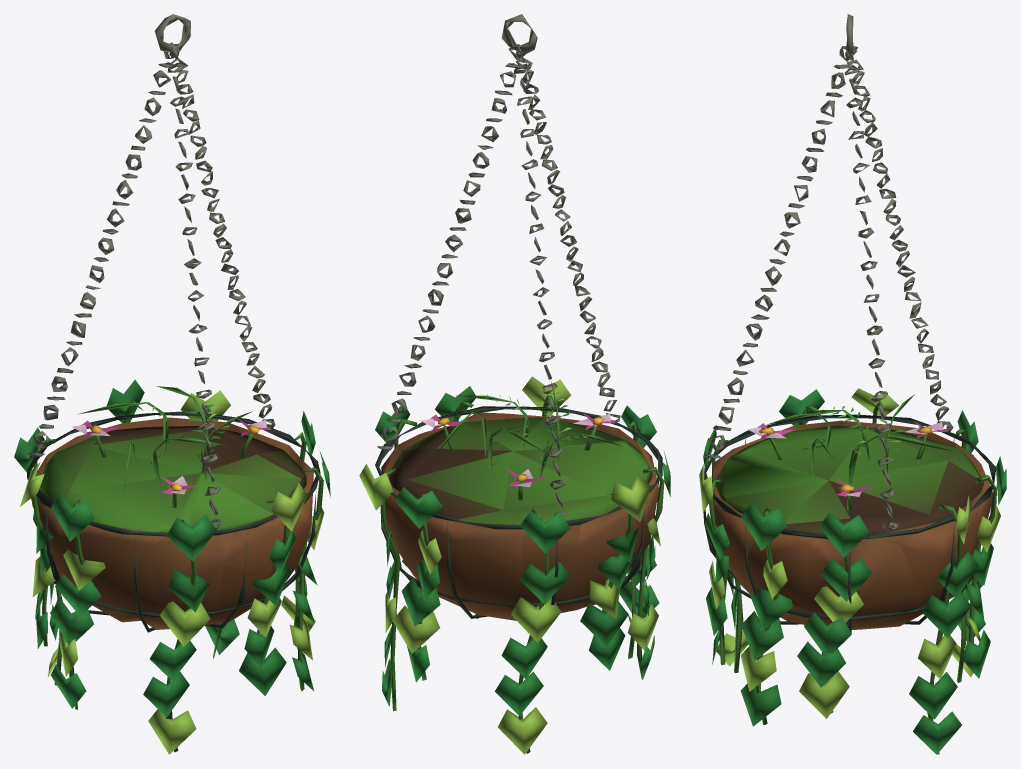
File: canopy_hanging_basket_lod2.glb
3 renders of one model, left to right at view 1: azimuth 30°, elevation 25°; view 2: azimuth 150°, elevation 25°; view 3: azimuth 270°, elevation 25°, orthographic.
Parts seen in each view (by area): view 1: canopy_hanging_basket.001; view 2: canopy_hanging_basket.001; view 3: canopy_hanging_basket.001.
Part boxes in pixels (x1,y1,x2,y2): canopy_hanging_basket.001: (14,14,330,754); canopy_hanging_basket.001: (359,14,670,754); canopy_hanging_basket.001: (699,14,1006,754).
Size of the model in its own units: 16.1 by 38.94 by 15.54.
